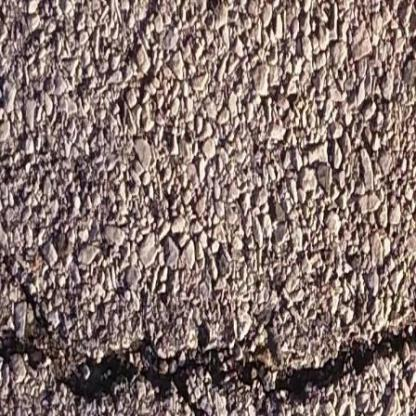Cracks: (0, 256, 416, 416)
